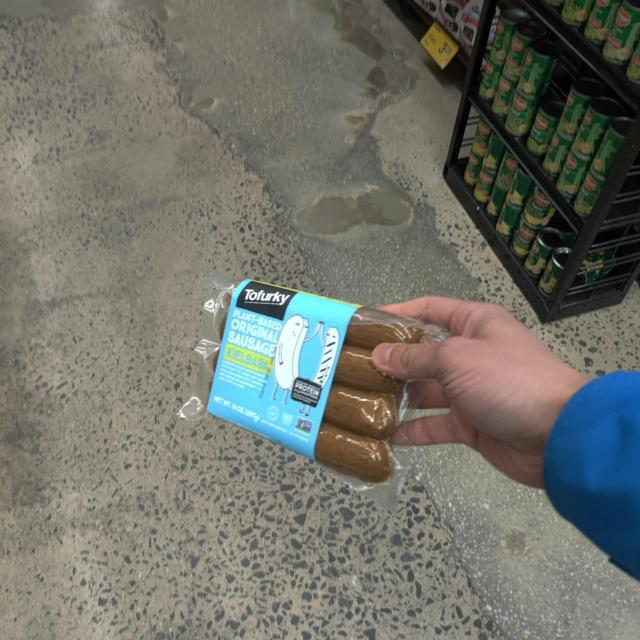Meat: (197, 284, 449, 500)
